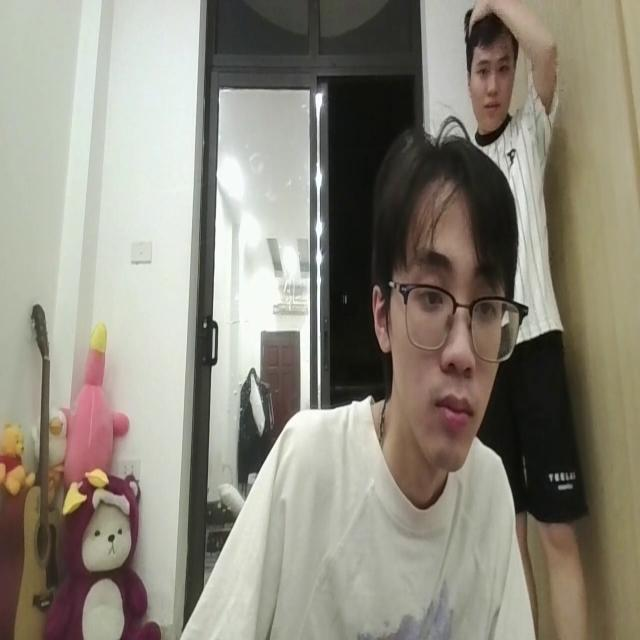extra_person: (469, 0, 598, 640)
student: (190, 122, 530, 640)
